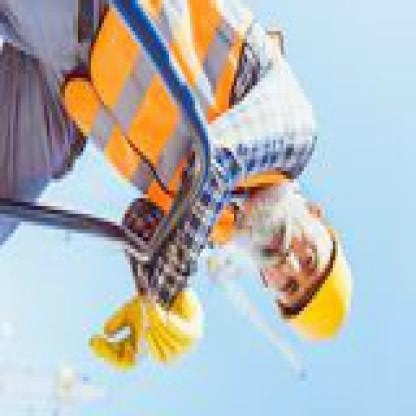vest: (68, 4, 293, 272)
yellow: (286, 222, 359, 354)
